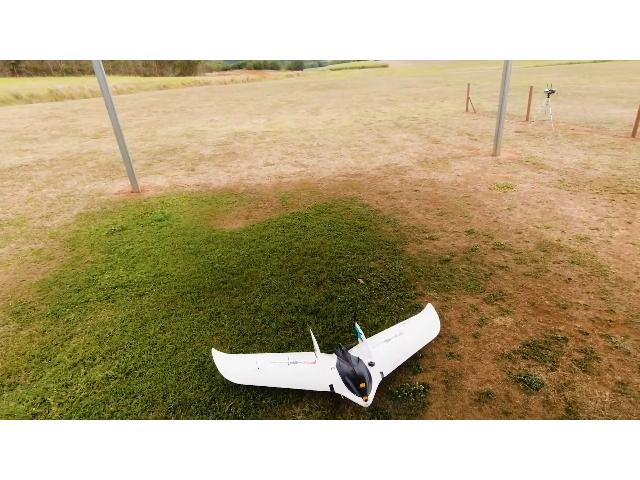Anti-Drone: (190, 296, 474, 419)
